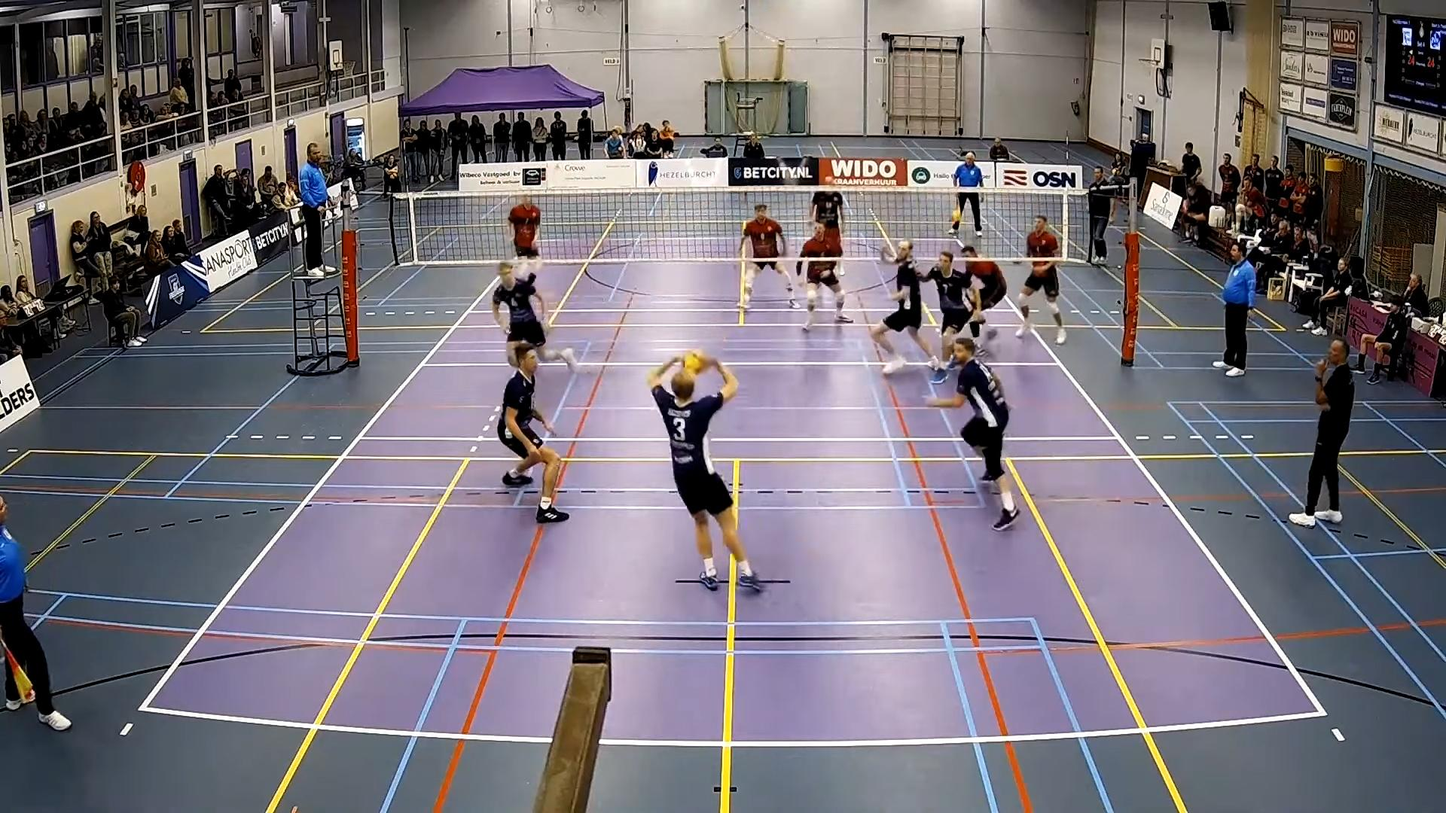difesa: (648, 347, 768, 601)
